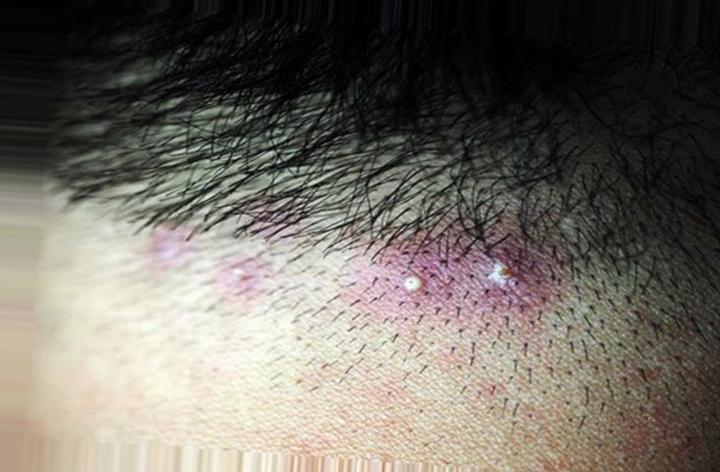Folliculitis: (384, 237, 546, 320)
